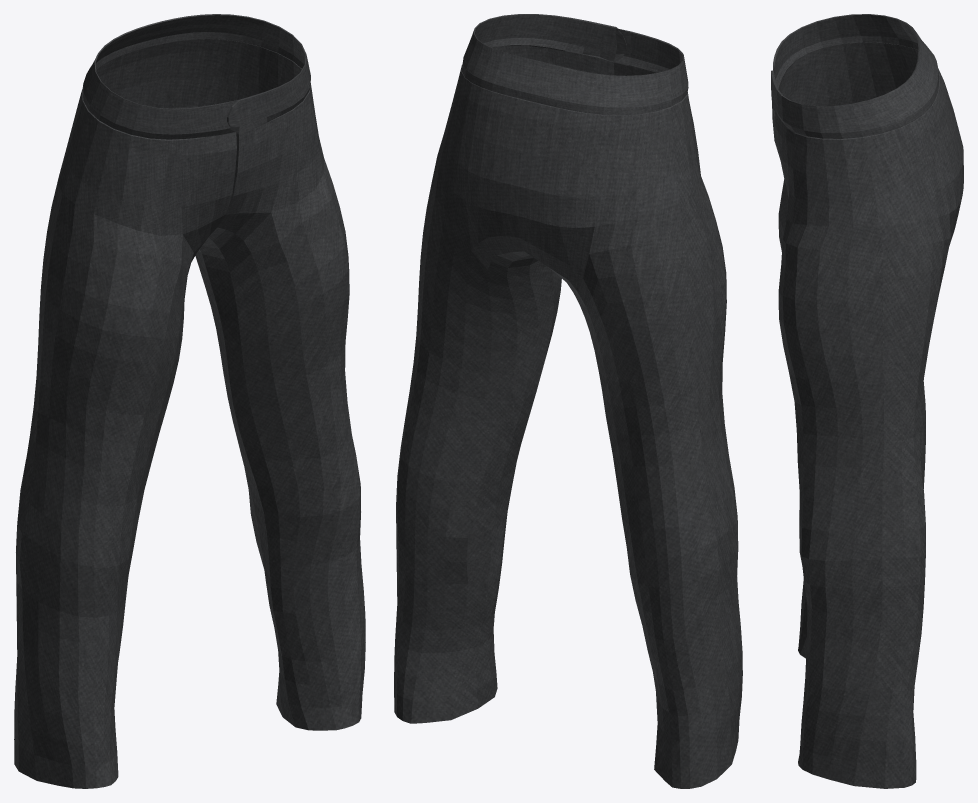
File: garment.glb
3 renders of one model, left to right at view 1: azimuth 30°, elevation 25°; view 2: azimuth 150°, elevation 25°; view 3: azimuth 270°, elevation 25°, orthographic. The views are drawn at different scales.
Parts seen in each view (by area): view 1: garment; view 2: garment; view 3: garment.
Part boxes in pixels (left/top/right/bottom): garment: left=14, top=14, right=365, bottom=788; garment: left=394, top=14, right=742, bottom=788; garment: left=771, top=14, right=963, bottom=788.
Bounding box in the file's own units: 4.85 × 10.03 × 2.62.
Materials: 1 (1 with a texture image).
